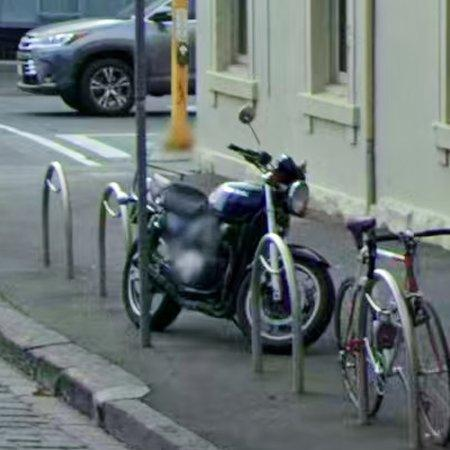motorcycles: (148, 144, 310, 336), (286, 245, 336, 344), (260, 235, 293, 348), (123, 243, 140, 326)
